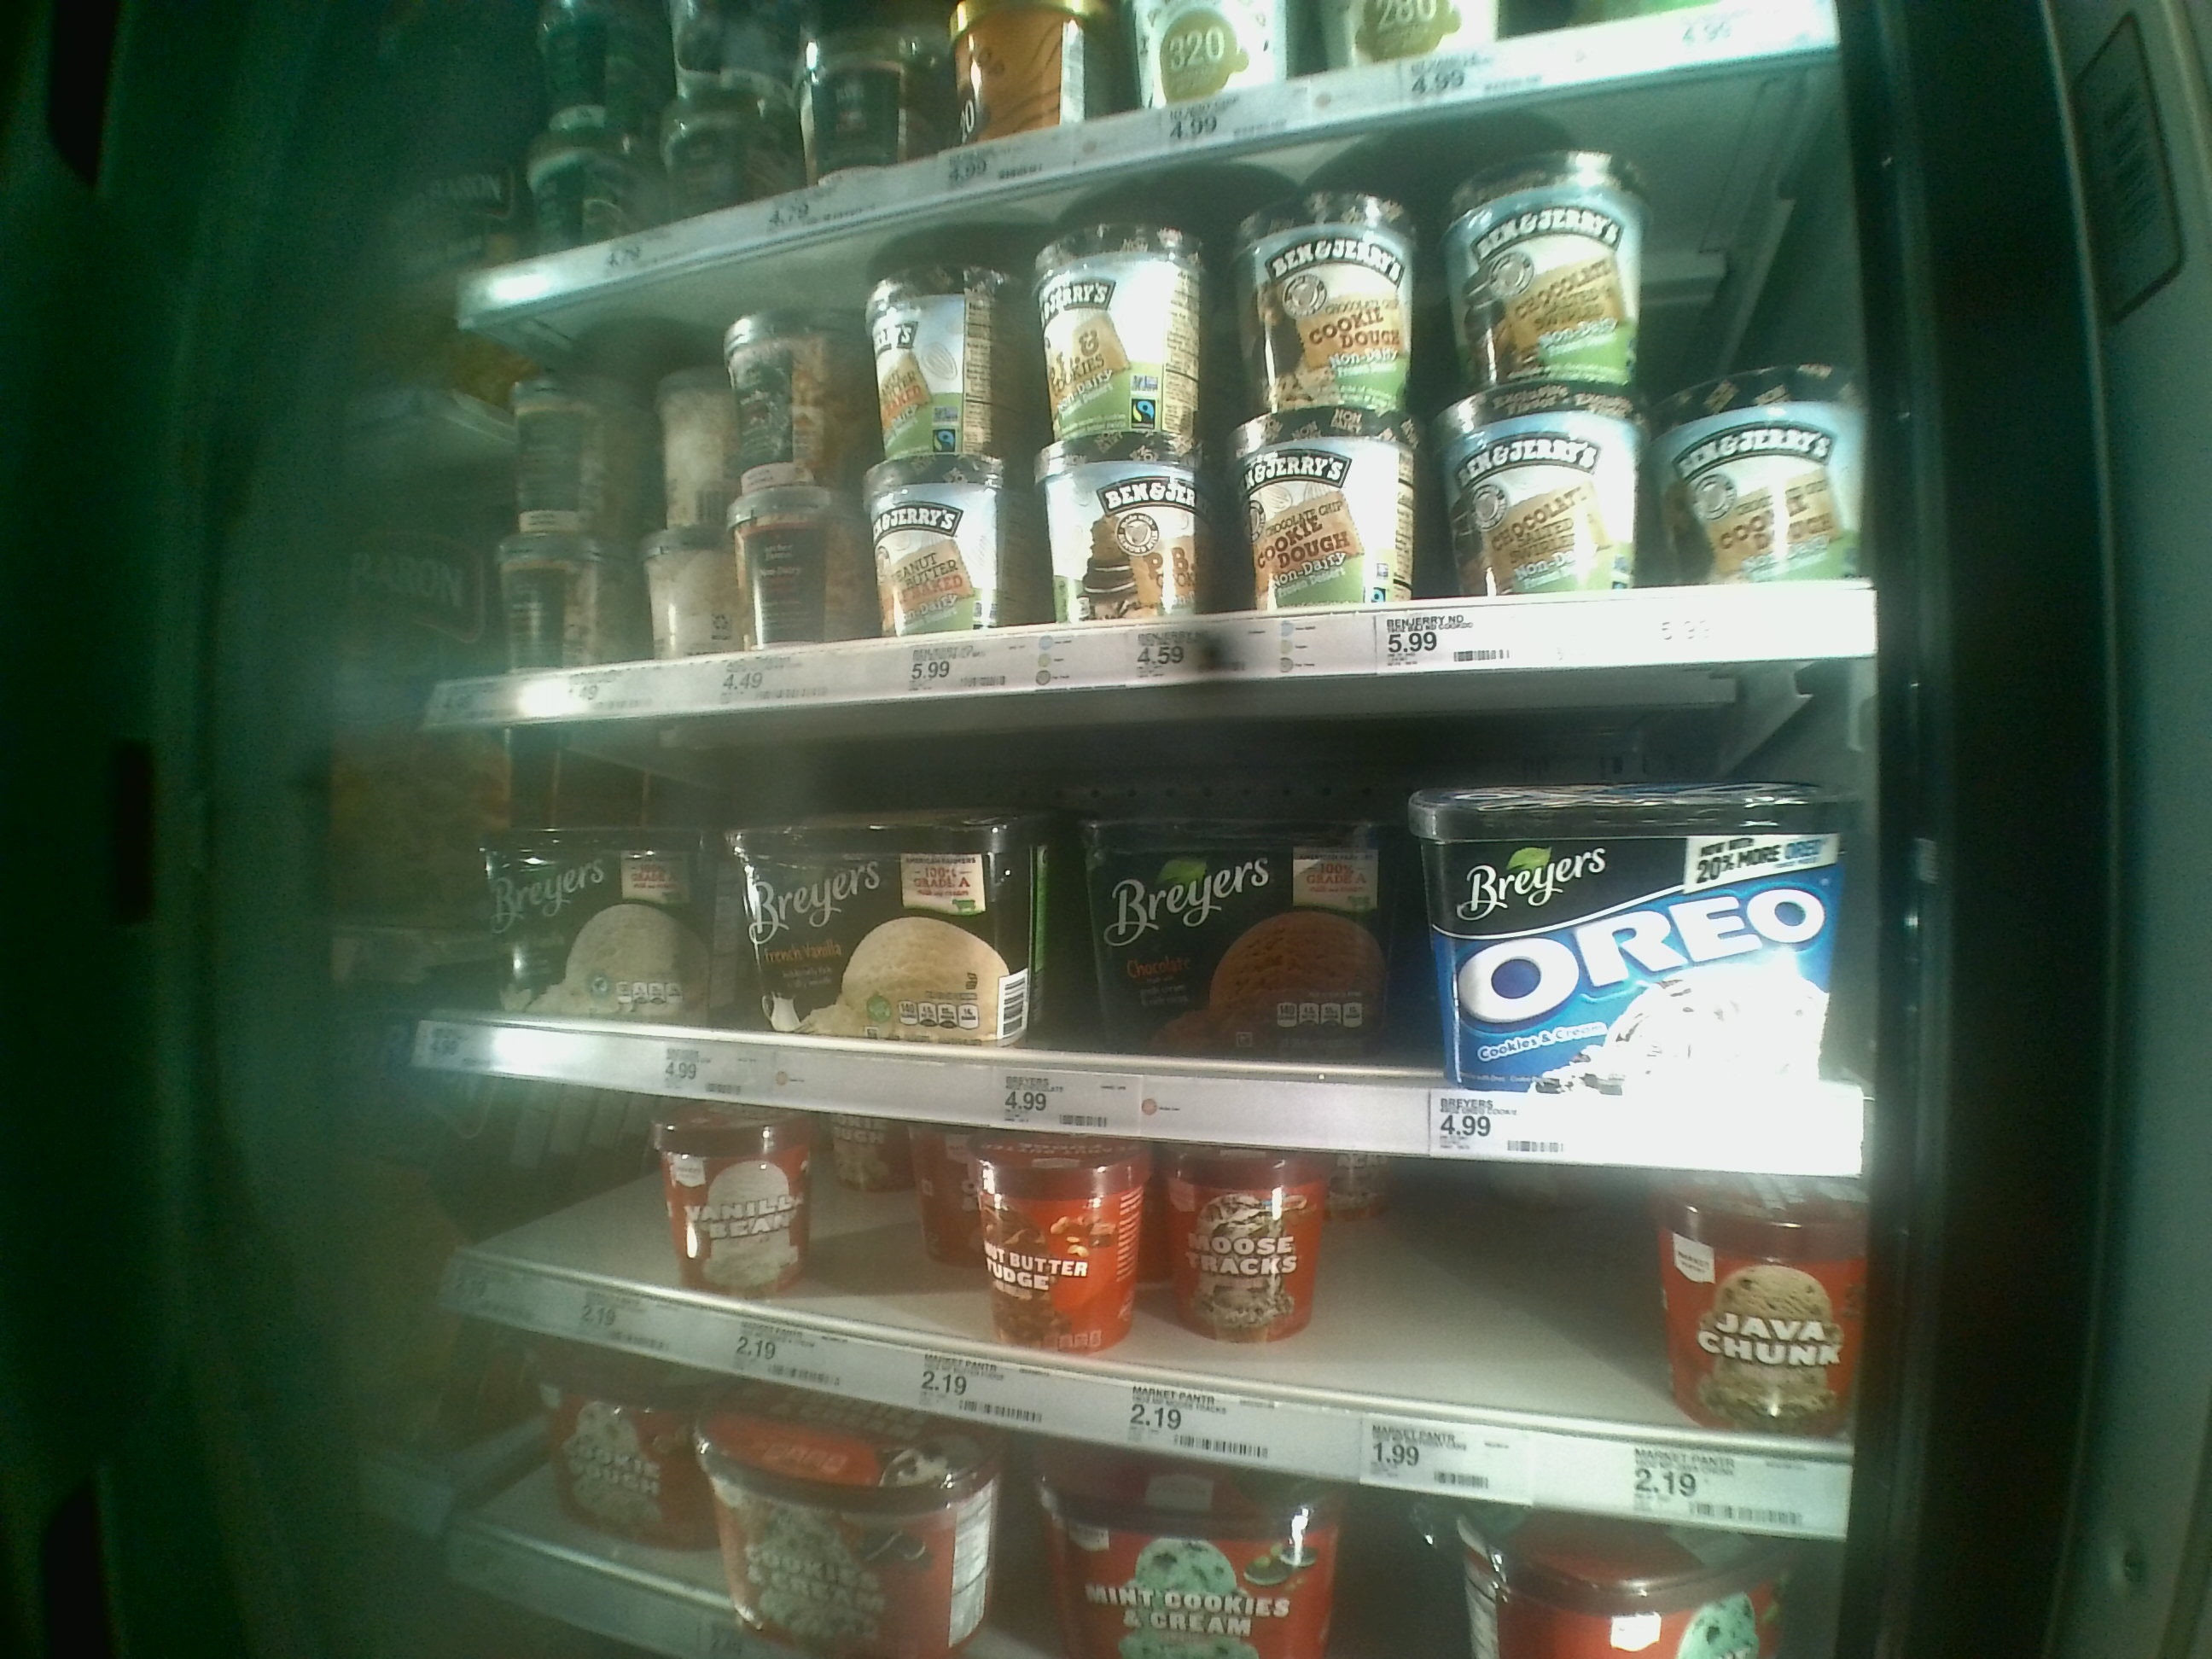shelf: (434, 38, 1862, 732), (425, 659, 1867, 1168), (406, 1075, 1860, 1530)
